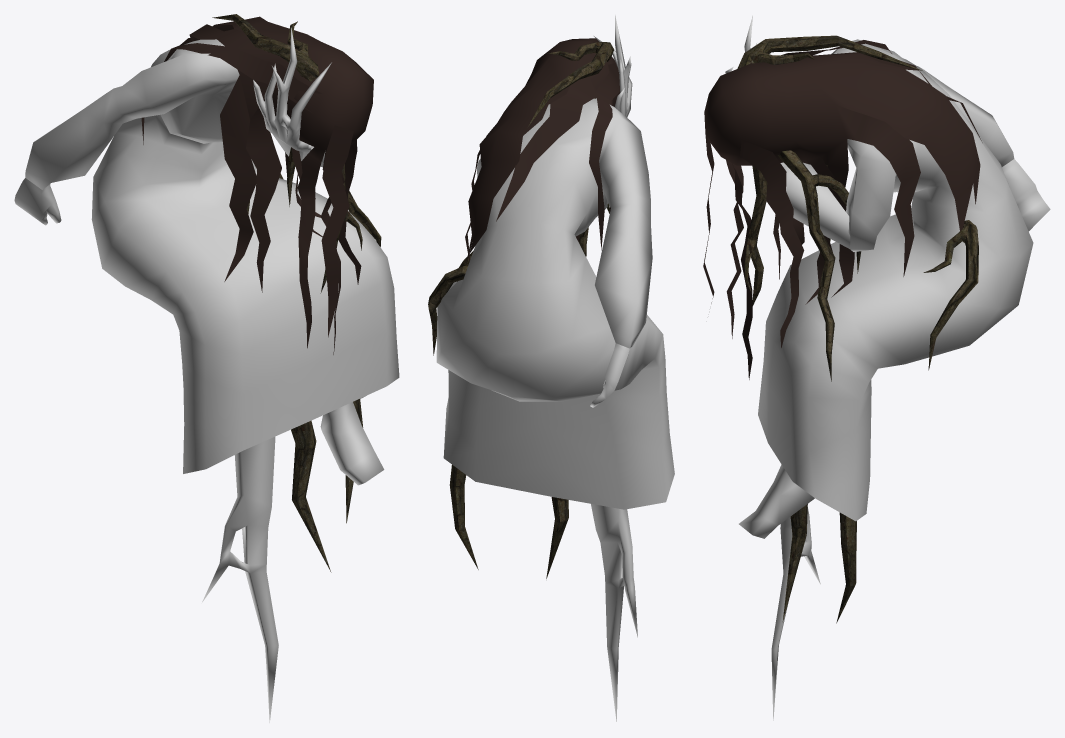
The model's file is Elaine_2.fbx.
3 renders of one model, left to right at view 1: azimuth 30°, elevation 25°; view 2: azimuth 150°, elevation 25°; view 3: azimuth 270°, elevation 25°, orthographic. The views are drawn at different scales.
Parts seen in each view (by area): view 1: Pose_2; view 2: Pose_2; view 3: Pose_2.
Boxes of the visible parts, x1=… form: Pose_2: x1=14, y1=14, x2=399, y2=722; Pose_2: x1=428, y1=15, x2=674, y2=721; Pose_2: x1=703, y1=15, x2=1050, y2=720.
Bounding box in the file's own units: 66.32 × 159 × 69.99.
